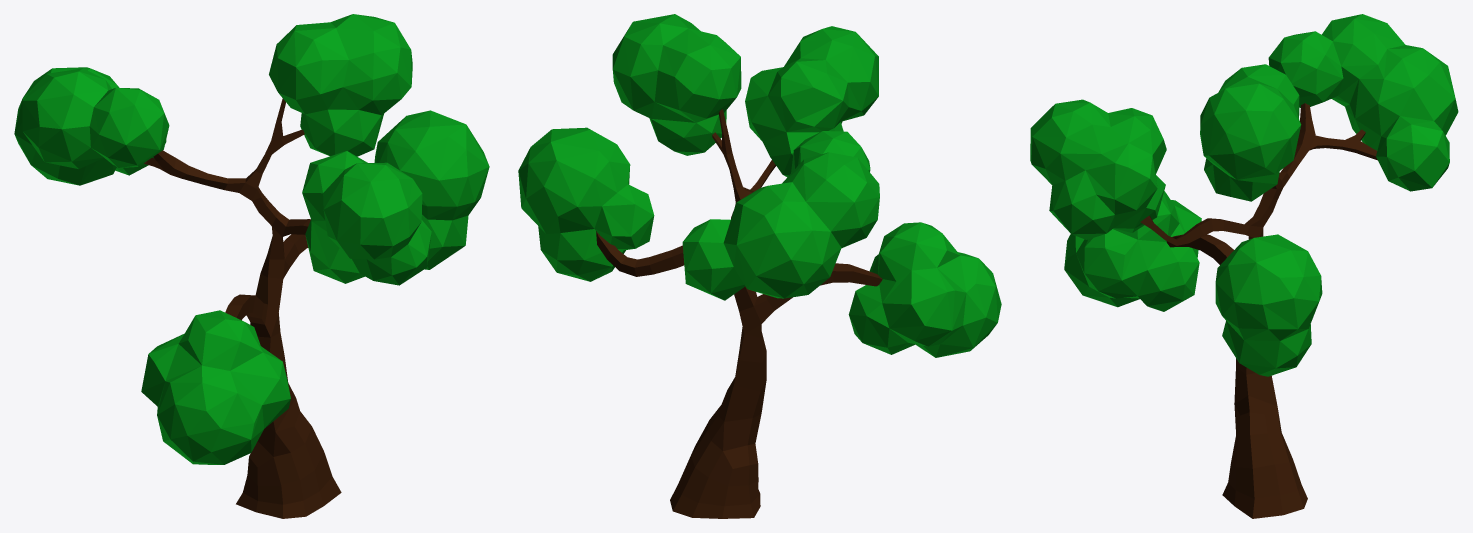
Rendered from arbre_5.FBX.
3 renders of one model, left to right at view 1: azimuth 30°, elevation 25°; view 2: azimuth 150°, elevation 25°; view 3: azimuth 270°, elevation 25°, orthographic. The views are drawn at different scales.
Visible parts, largest first — view 1: LowPoly_Tree_04_; view 2: LowPoly_Tree_04_; view 3: LowPoly_Tree_04_.
Boxes of the visible parts, x1,y1,x2,y2 form: LowPoly_Tree_04_: (14,14,489,518); LowPoly_Tree_04_: (518,14,1001,518); LowPoly_Tree_04_: (1030,14,1458,518).
Size of the model in its own units: 40.46 by 45.46 by 39.88.
